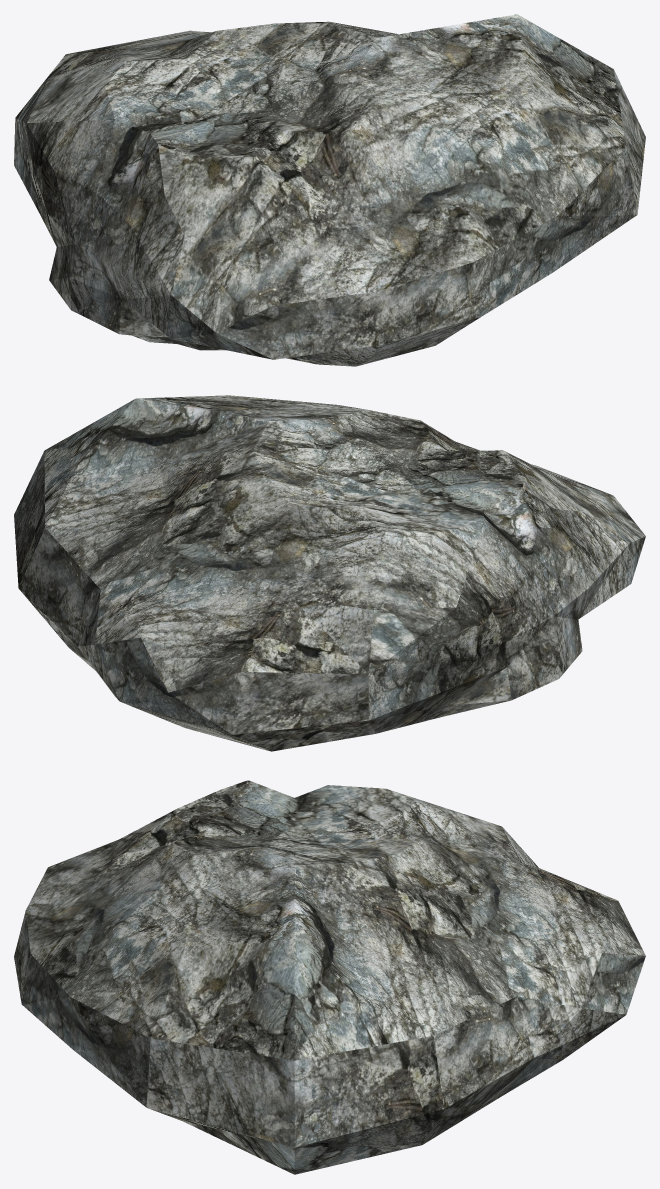
Rendered from DinoGroundRock_02.DAE.
3 views of the same model, one above another, from view 1: azimuth 30°, elevation 25°; view 2: azimuth 150°, elevation 25°; view 3: azimuth 270°, elevation 25° (orthographic). The views are drawn at different scales.
Visible parts, largest first — view 1: GroundStoneTWO300; view 2: GroundStoneTWO300; view 3: GroundStoneTWO300.
Boxes of the visible parts, <box> form: GroundStoneTWO300: <box>14,14,645,366</box>; GroundStoneTWO300: <box>14,395,645,751</box>; GroundStoneTWO300: <box>14,780,645,1174</box>.
Size of what is drawn, in the model's own units: 9.09 by 9.06 by 3.96.
